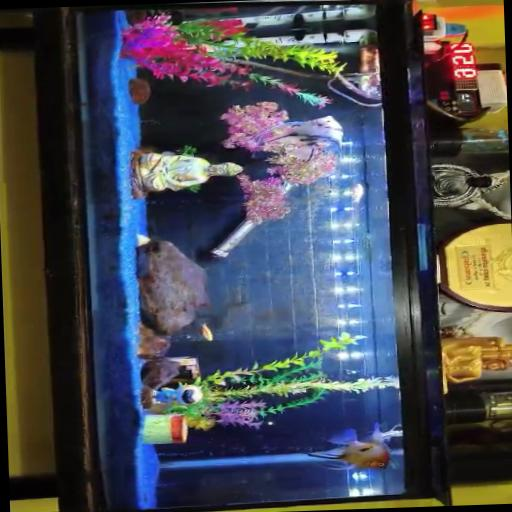Fish: (306, 423, 389, 469), (263, 115, 341, 159), (351, 183, 363, 201), (200, 322, 211, 339)
